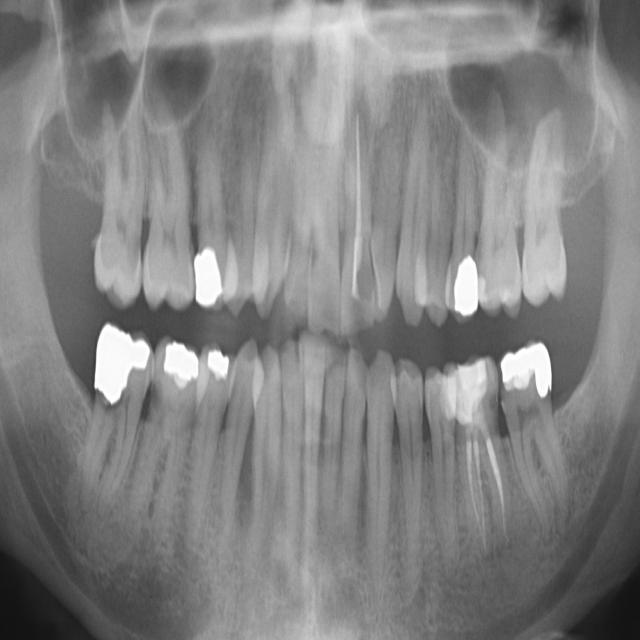infected-teeth: (445, 353, 512, 556), (340, 98, 381, 337)
